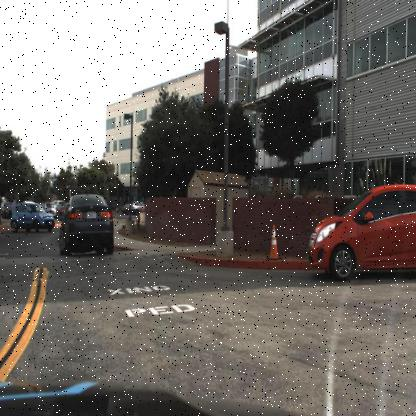car: (304, 179, 415, 285), (55, 188, 116, 260), (8, 199, 56, 237), (126, 197, 146, 216)
